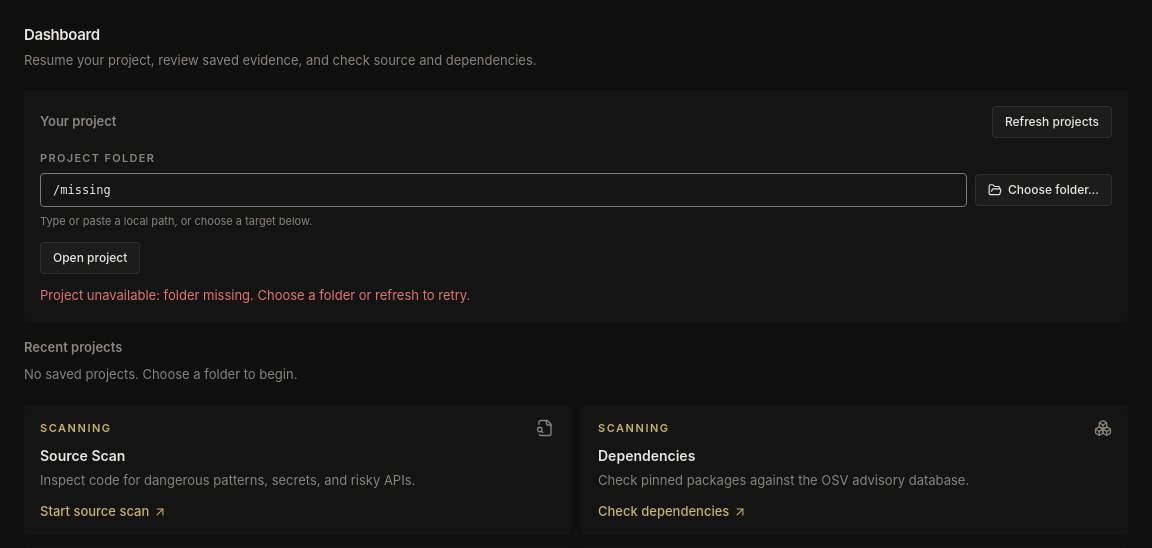
Test: unavailable restored path stays visible, and stale inspection cannot replace a newer selection
The image size is (1152, 548).
Expected: the text "Project unavailable: folder missing. Choose a folder or refresh to retry." is shown, x1=40 y1=287 x2=470 y2=303
Replace the text in the field labelled "Project folder" with "/old": (504,190) x1=40 y1=172 x2=967 y2=206
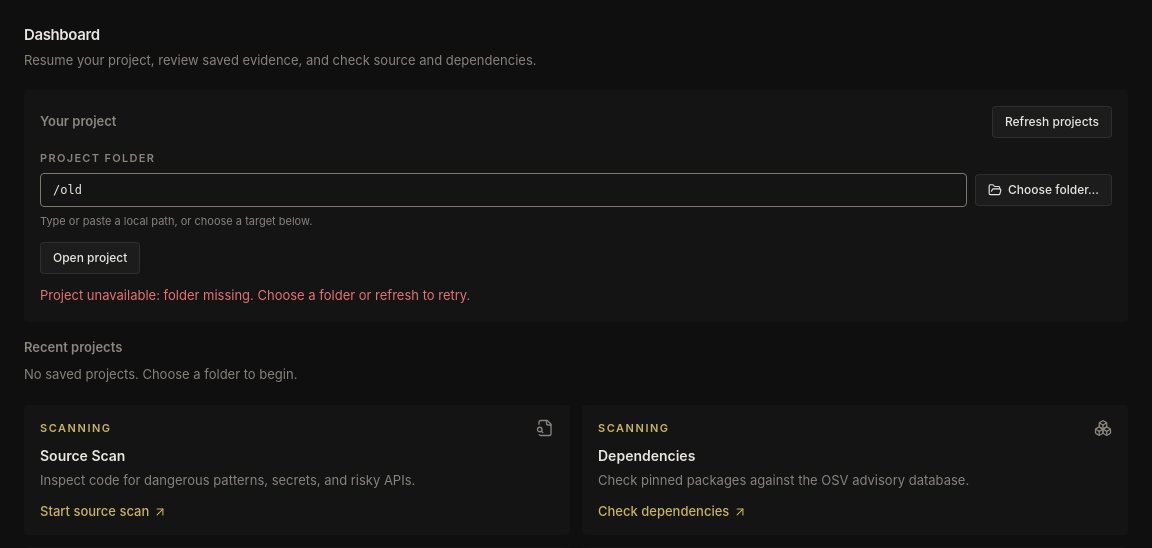
Click the button "Open project": (90,258) x1=40 y1=242 x2=140 y2=274
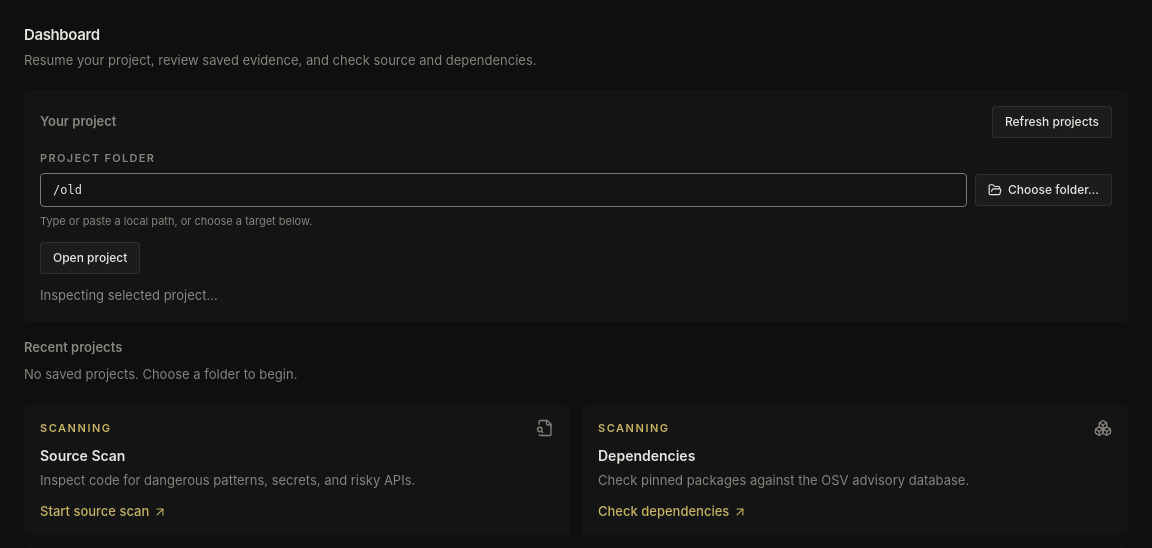
Replace the text in the field labelled "Project folder" with "/new": (504,190) x1=40 y1=172 x2=967 y2=206
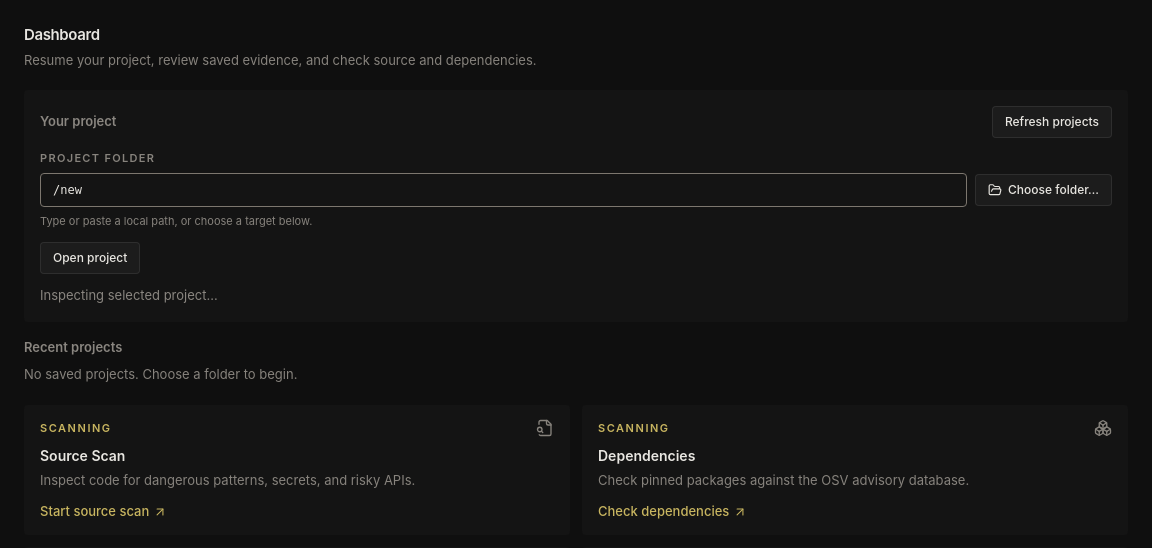
Click the button "Open project": (90,258) x1=40 y1=242 x2=140 y2=274
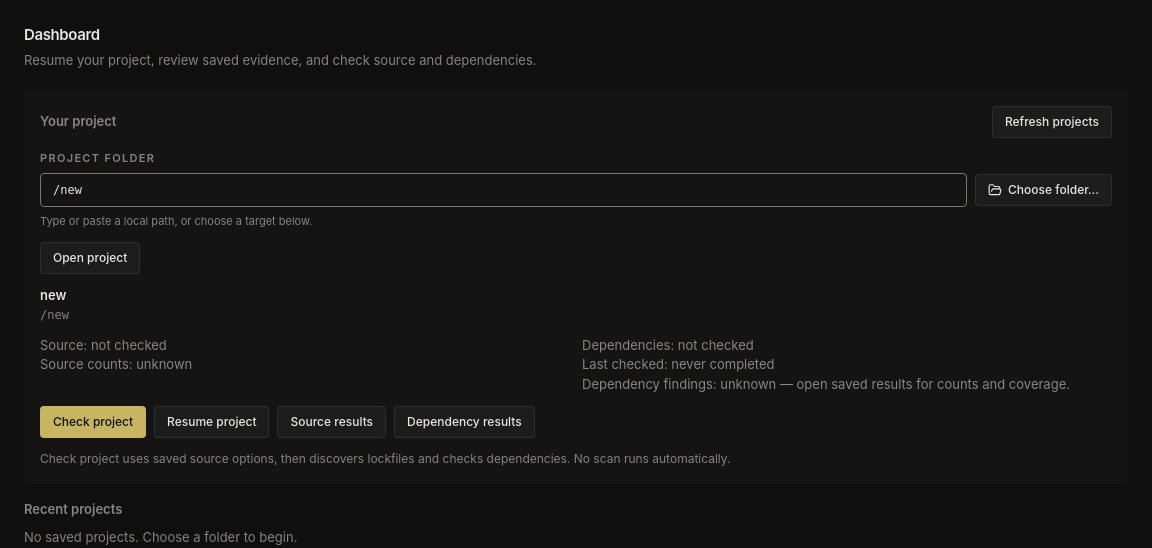
Expected: the button "Resume project" is shown, x1=154 y1=406 x2=270 y2=438
Expected: the text "/new" is shown, x1=40 y1=308 x2=69 y2=322
